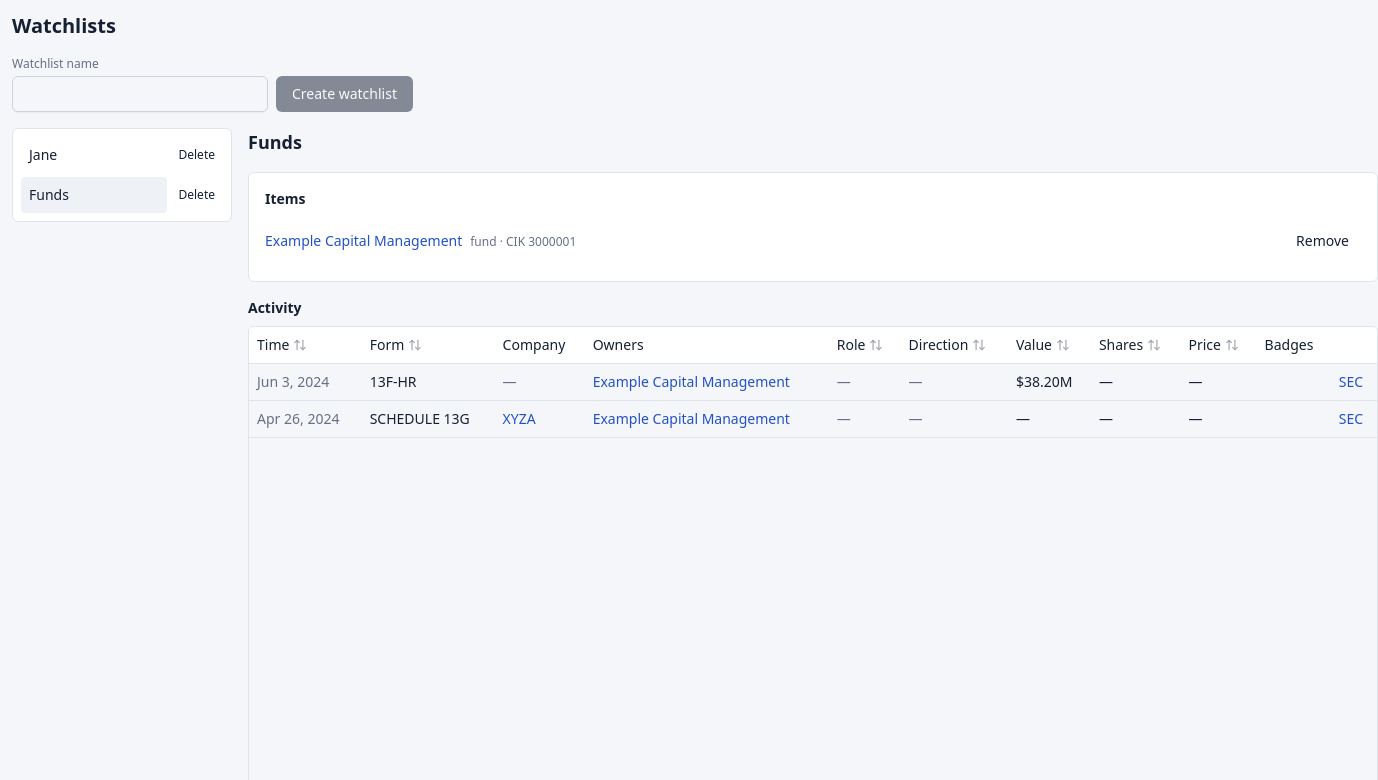
activity renders feed rows only for the URL-selected list and switching updates id
expect the link "Doe Jane" is not shown: met
Click the link "Jane": (43, 154) [29,145,57,164]
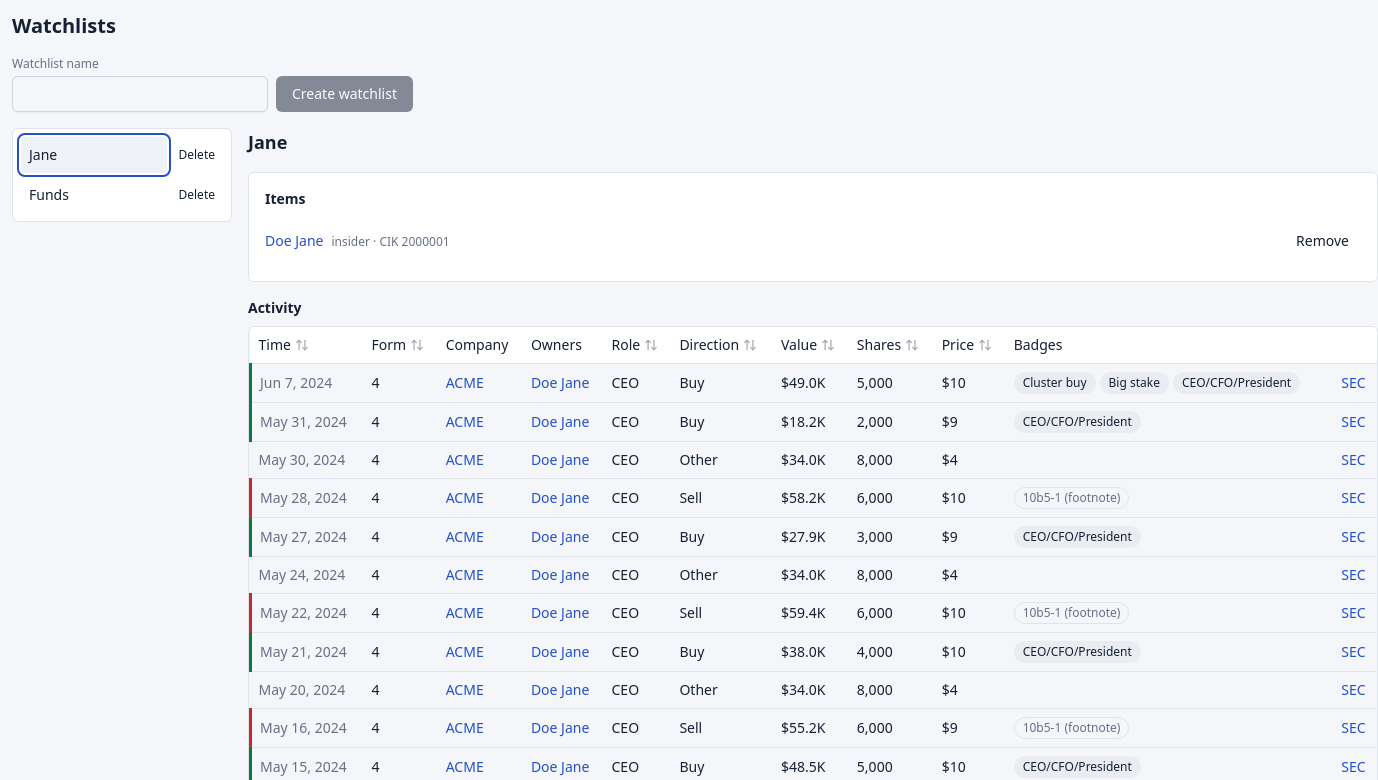
expect the link "Example Capital Management" is gone: met
